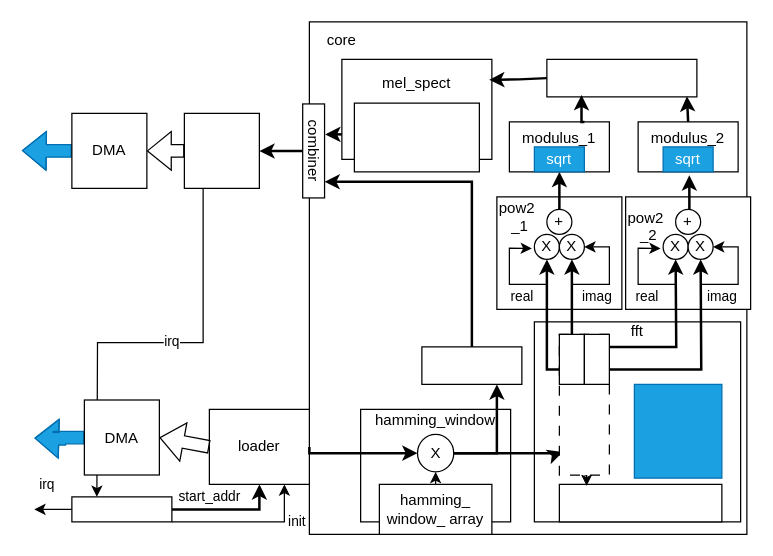
The diagram is 773 pixels wide and 556 high, and some of its shapes have lost their labels. The box of each missing label's shape, as (x1, y1, x2, y2) in pixels:
collector: (546, 58, 697, 97)
dft_top: (633, 383, 722, 478)
FFT_RAM (2 kB): (558, 483, 722, 522)
FSM: (558, 333, 609, 475)
mel_spet_table: (353, 102, 479, 172)
regs: (71, 496, 172, 522)
saver: (183, 112, 259, 188)
z 1: (558, 333, 584, 384)
z 2: (583, 333, 609, 384)
zcr: (421, 346, 522, 384)
